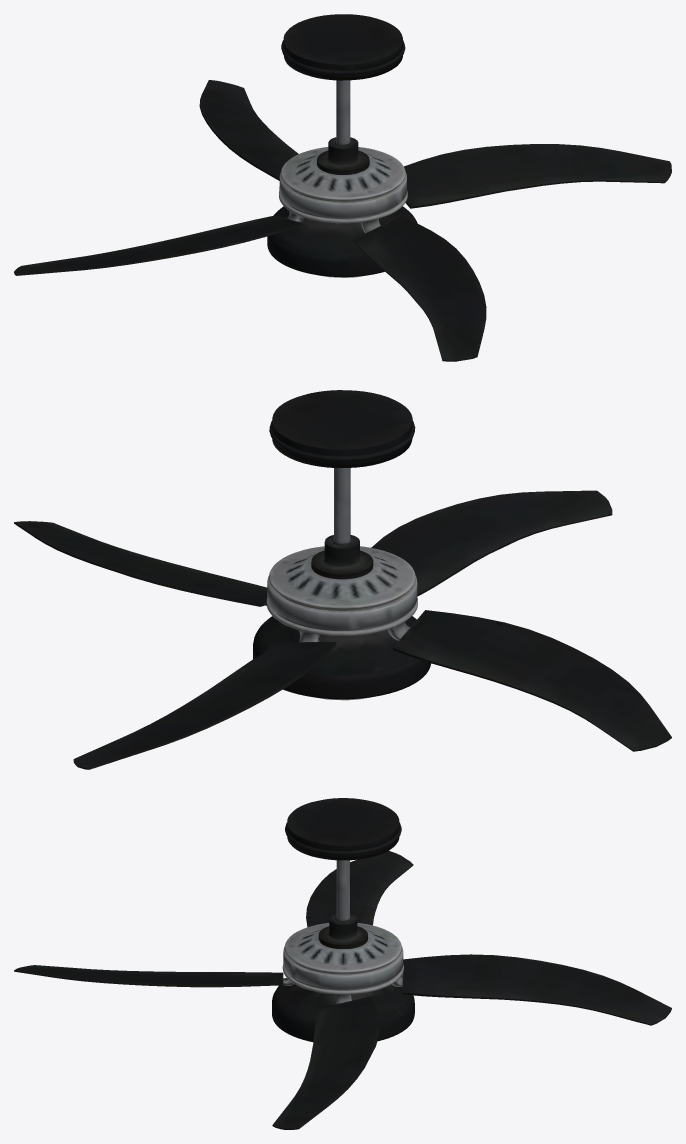
Rendered from ceiling_fan.glb.
The picture shows the model from 3 angles, top to bottom: view 1: azimuth 30°, elevation 25°; view 2: azimuth 150°, elevation 25°; view 3: azimuth 270°, elevation 25°; orthographic projection. The views are drawn at different scales.
Visible parts, largest first — view 1: ceiling_fan; view 2: ceiling_fan; view 3: ceiling_fan.
Part boxes in pixels (left/top/right/bottom): ceiling_fan: left=14, top=14, right=671, bottom=361; ceiling_fan: left=14, top=390, right=671, bottom=769; ceiling_fan: left=14, top=798, right=671, bottom=1129.
Bounding box in the file's own units: 1.46 × 0.5163 × 1.46.
Materials: 1 (1 with a texture image).
